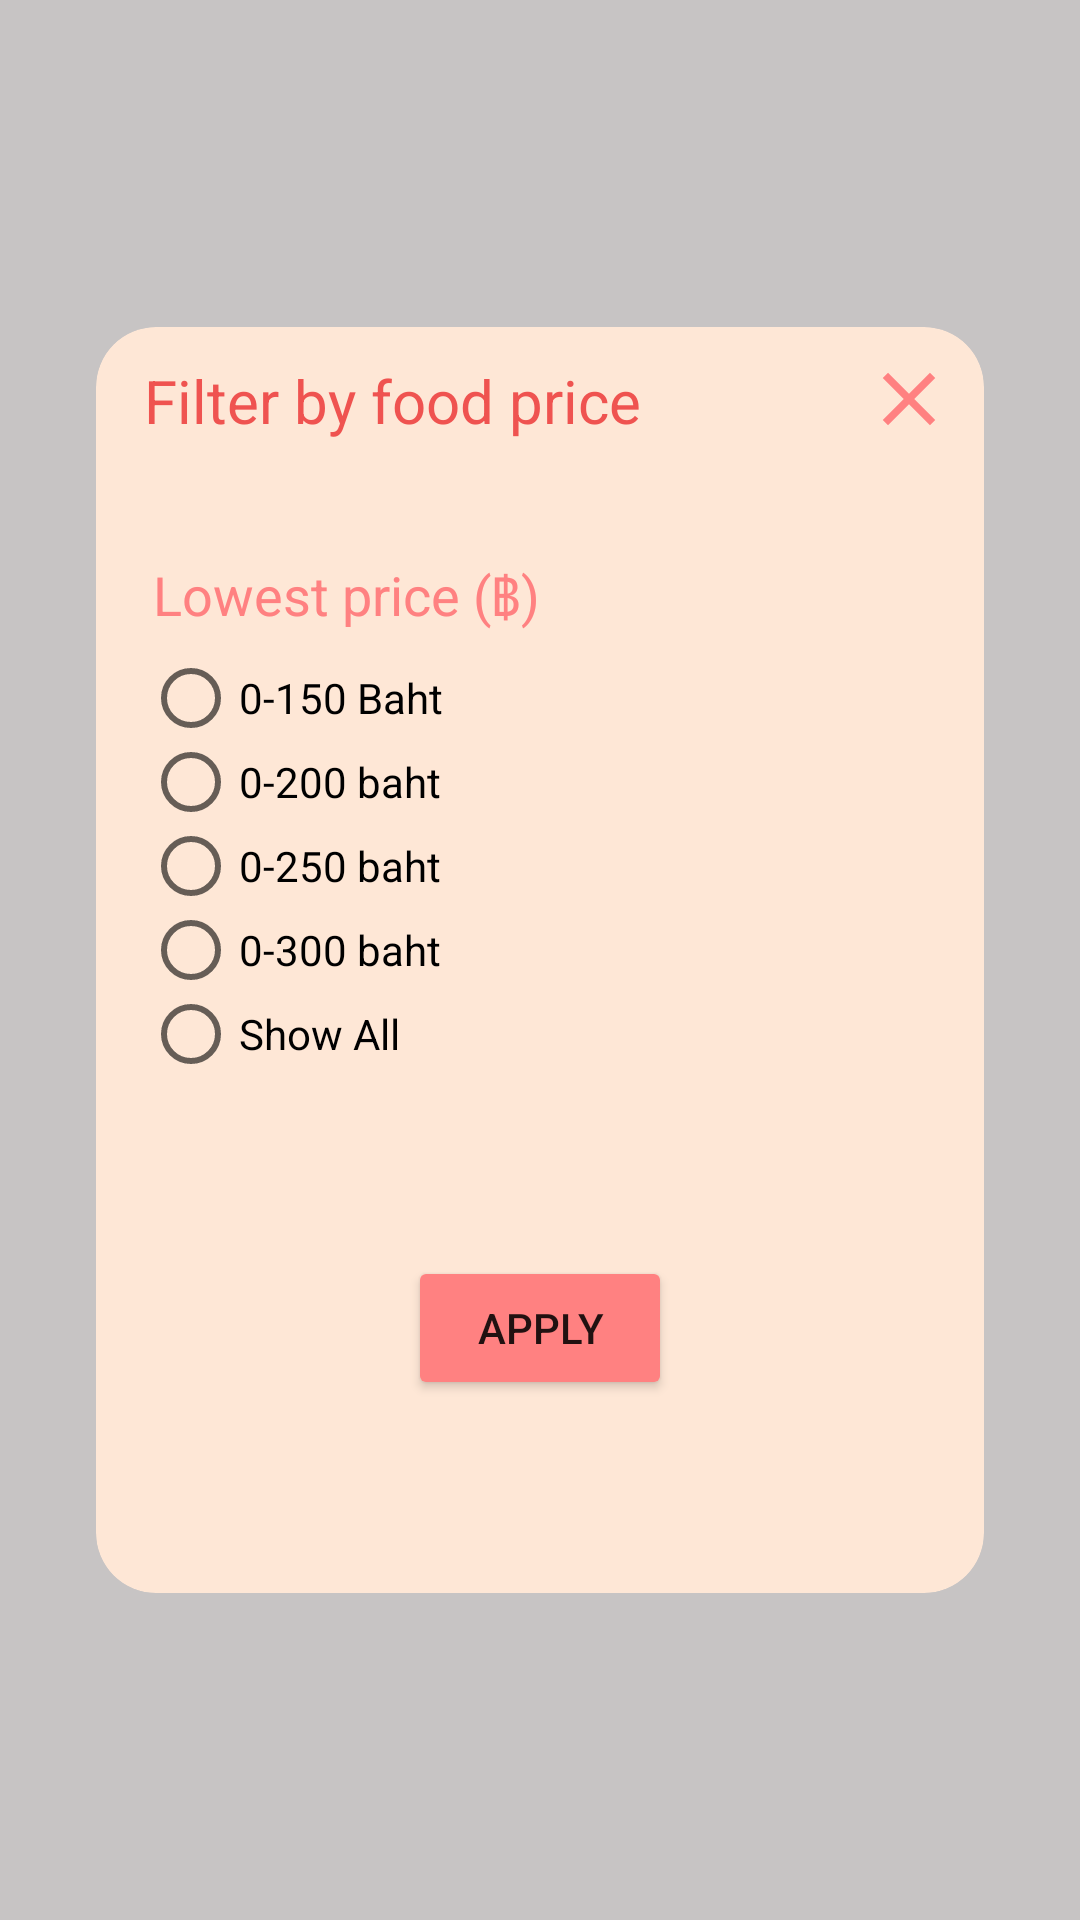

Named icons in this screenshot (1080x1920) and their bounding boxes, {"left": x1, "top": y1, "right": x2, "bottom": y2}:
close: {"left": 883, "top": 373, "right": 935, "bottom": 425}
